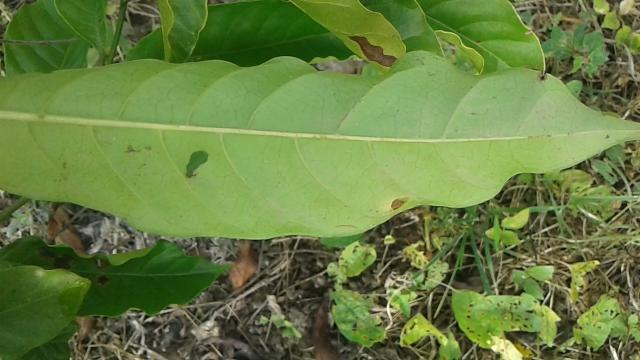rust_level_1: (0, 51, 638, 238)
